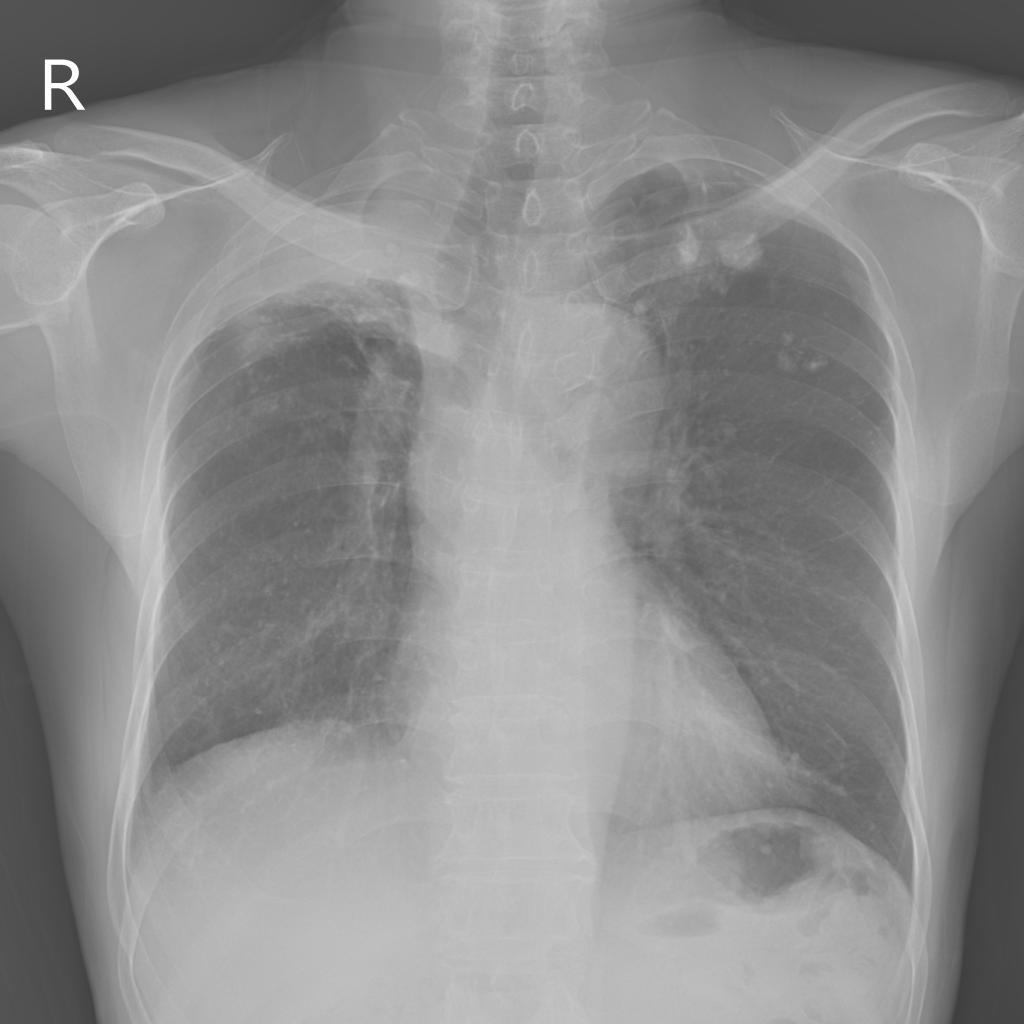Nodule: (717, 234, 764, 270)
